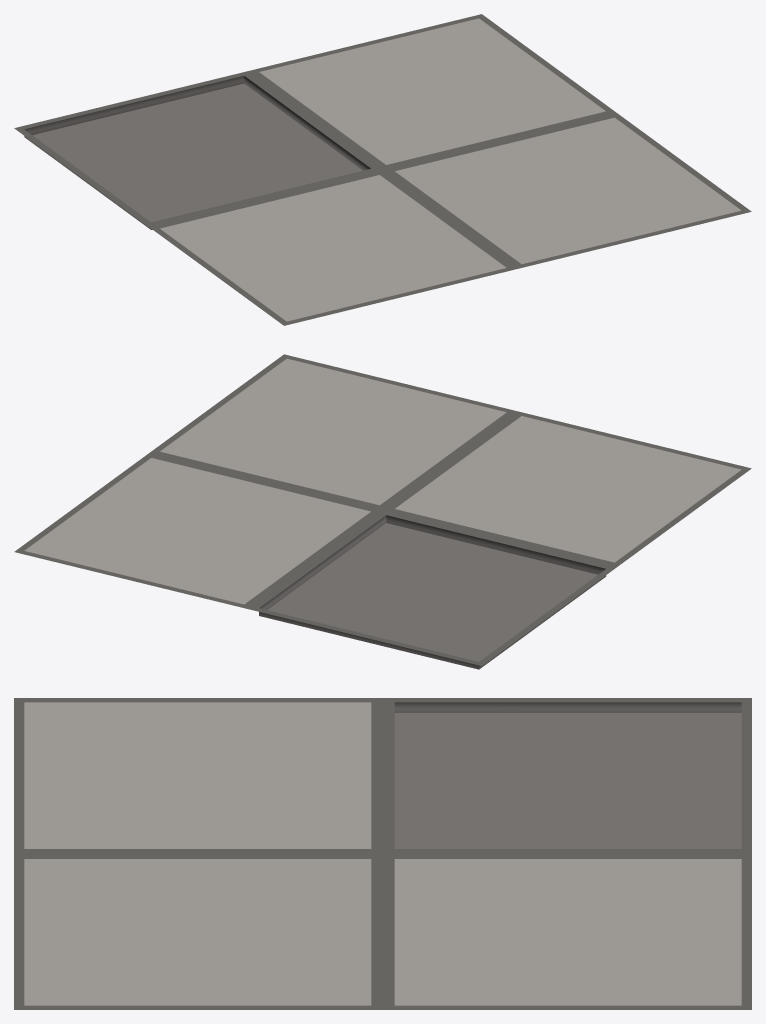
Rendered from AI_Env_Floor_07_Broken.fbx.
The picture shows the model from 3 angles, top to bottom: view 1: azimuth 30°, elevation 25°; view 2: azimuth 150°, elevation 25°; view 3: azimuth 270°, elevation 25°; orthographic projection. The views are drawn at different scales.
Visible parts, largest first — view 1: AI_Env_Floor_07_Broken; view 2: AI_Env_Floor_07_Broken; view 3: AI_Env_Floor_07_Broken.
Boxes of the visible parts, left/top/right/bottom form: AI_Env_Floor_07_Broken: left=14, top=14, right=751, bottom=325; AI_Env_Floor_07_Broken: left=14, top=354, right=751, bottom=669; AI_Env_Floor_07_Broken: left=14, top=698, right=751, bottom=1009.
Size of the model in its own units: 5 by 0.0798 by 5.
